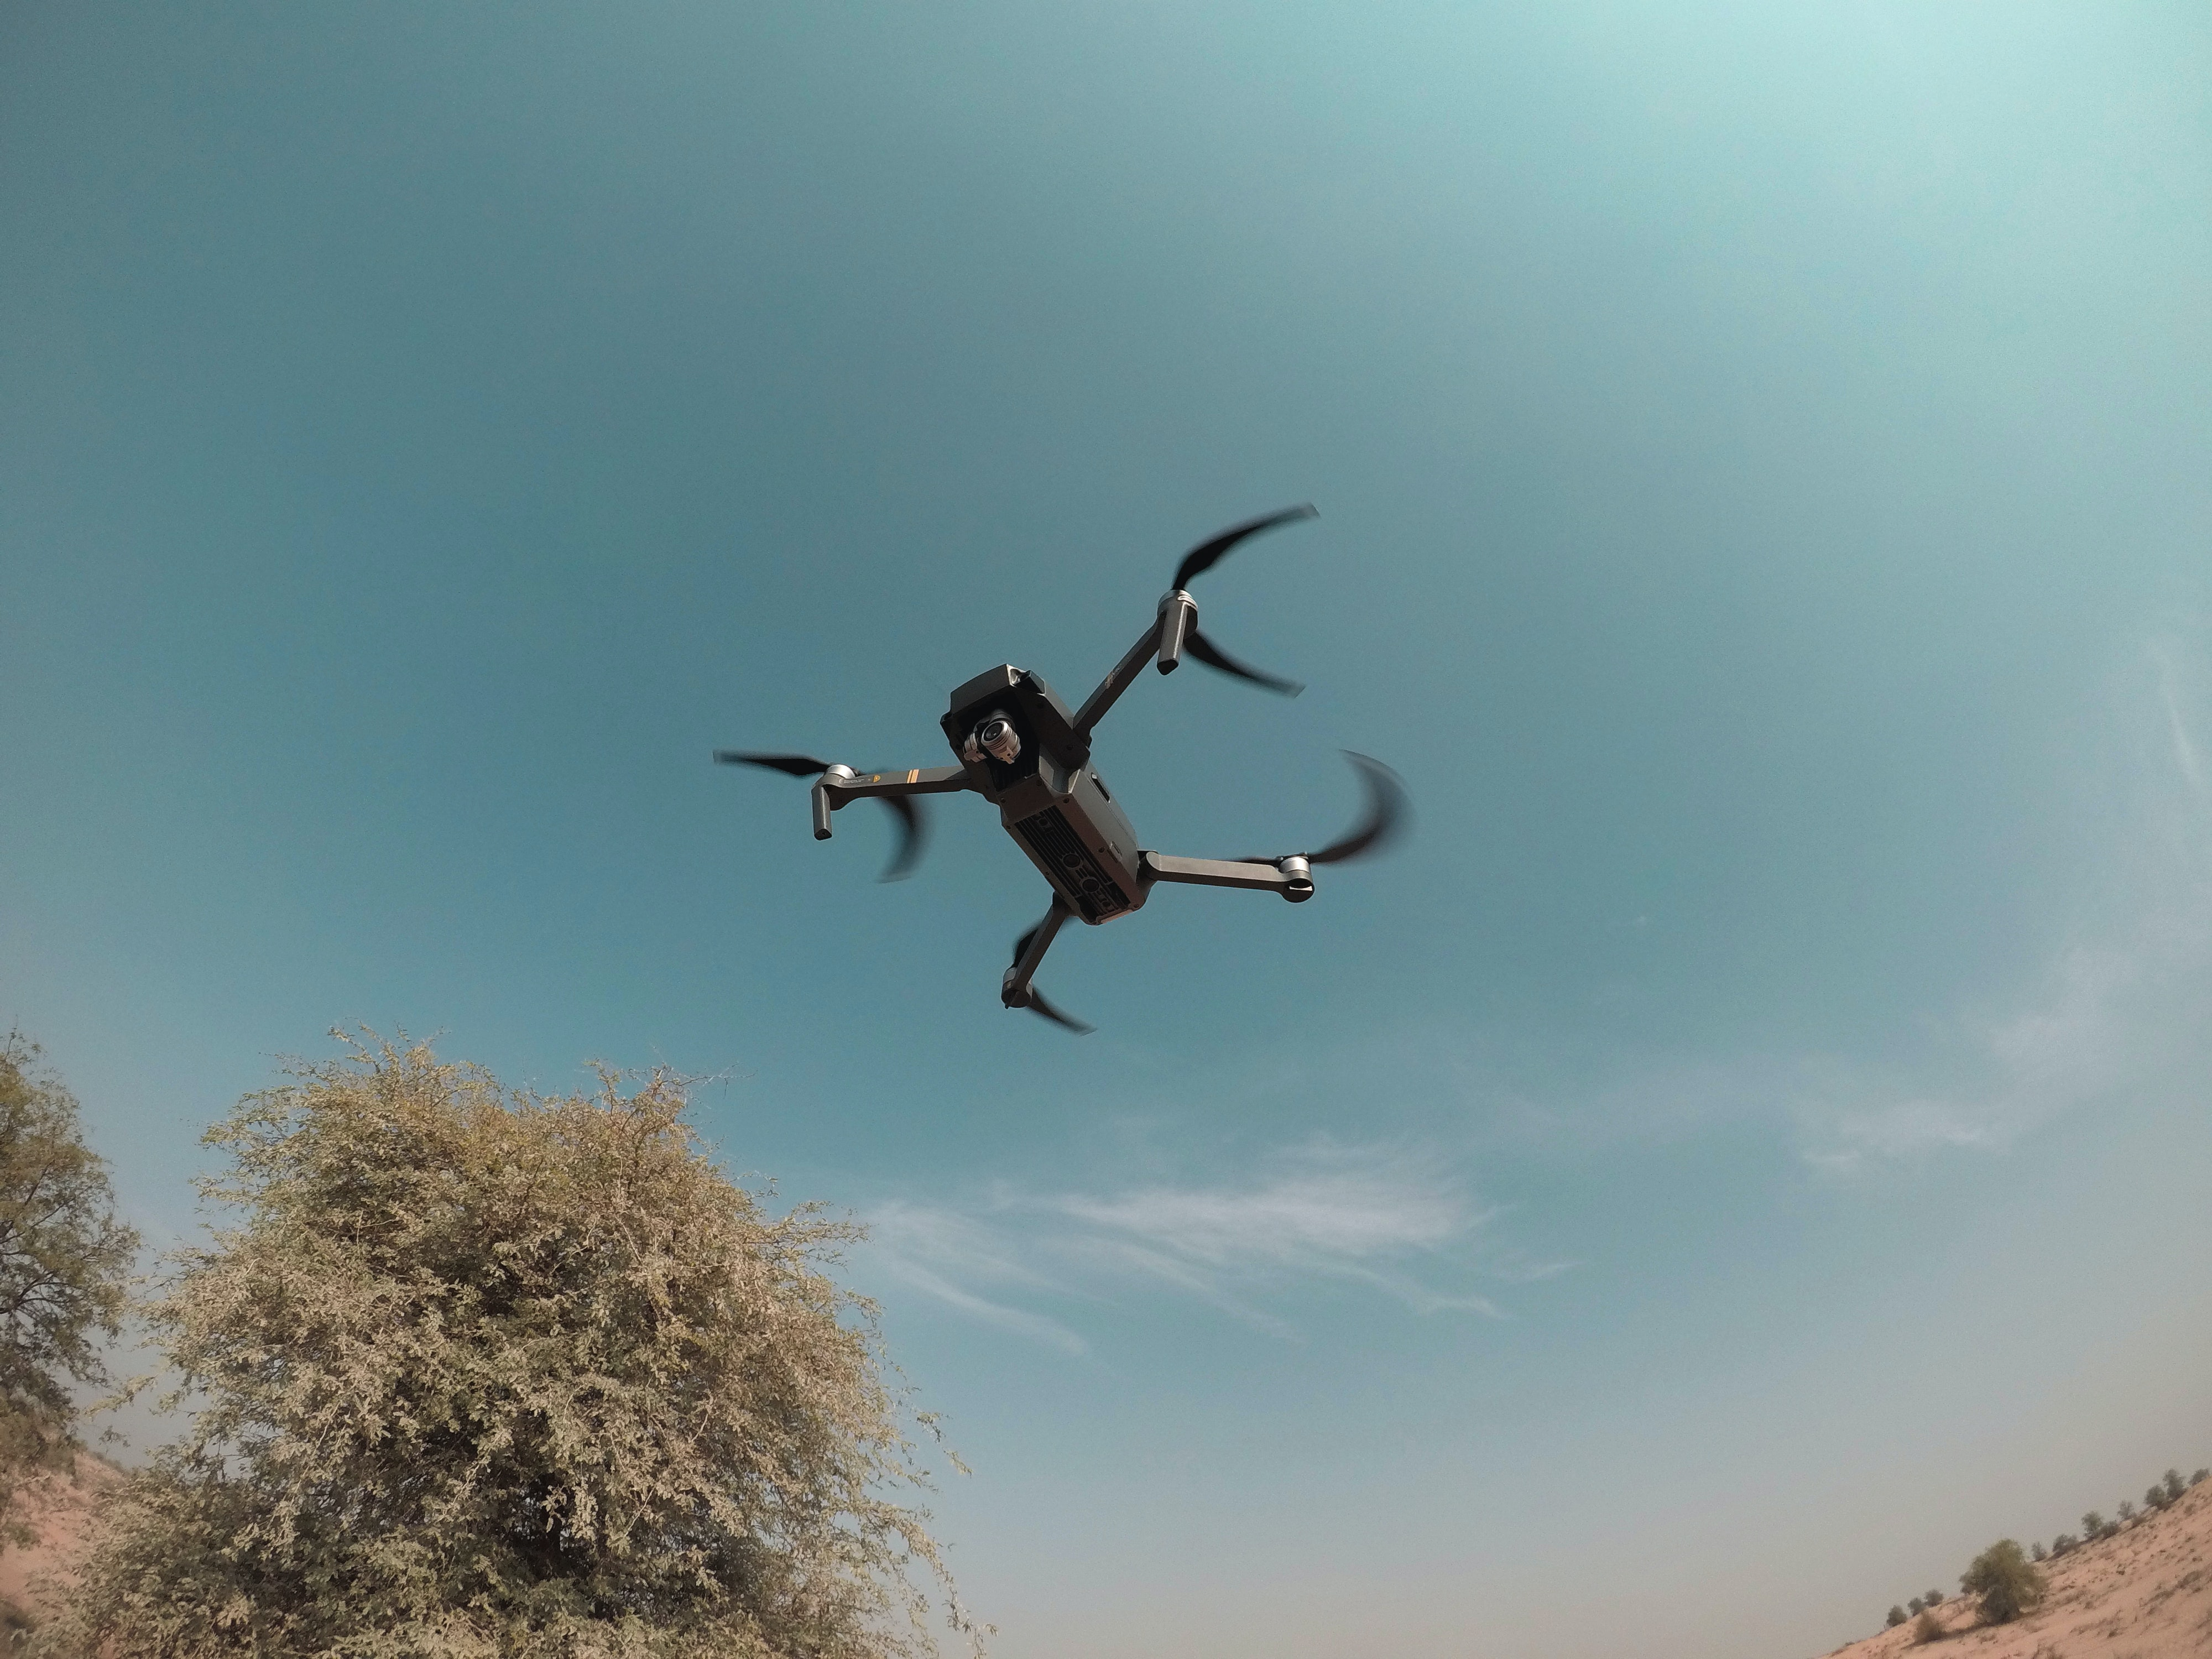drone: (685, 497, 1496, 1066)
